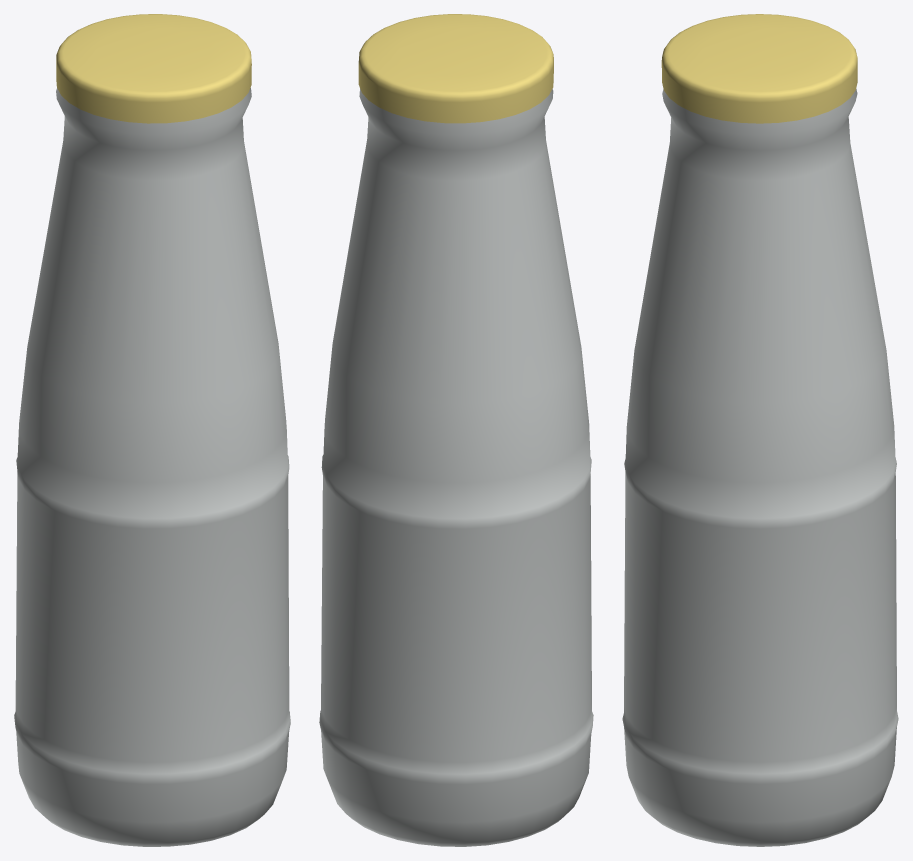
The model's file is bottle_milk_lod1.glb.
The picture shows the model from 3 angles, left to right: view 1: azimuth 30°, elevation 25°; view 2: azimuth 150°, elevation 25°; view 3: azimuth 270°, elevation 25°; orthographic projection.
Visible parts, largest first — view 1: Glass, Cap; view 2: Glass, Cap; view 3: Glass, Cap.
Boxes of the visible parts, left/top/right/bottom form: Glass: left=14, top=87, right=290, bottom=846; Cap: left=56, top=14, right=251, bottom=123; Glass: left=319, top=88, right=593, bottom=846; Cap: left=358, top=14, right=553, bottom=123; Glass: left=622, top=89, right=898, bottom=846; Cap: left=661, top=14, right=857, bottom=123.
Bounding box in the file's own units: 0.0745 × 0.2238 × 0.0746.
